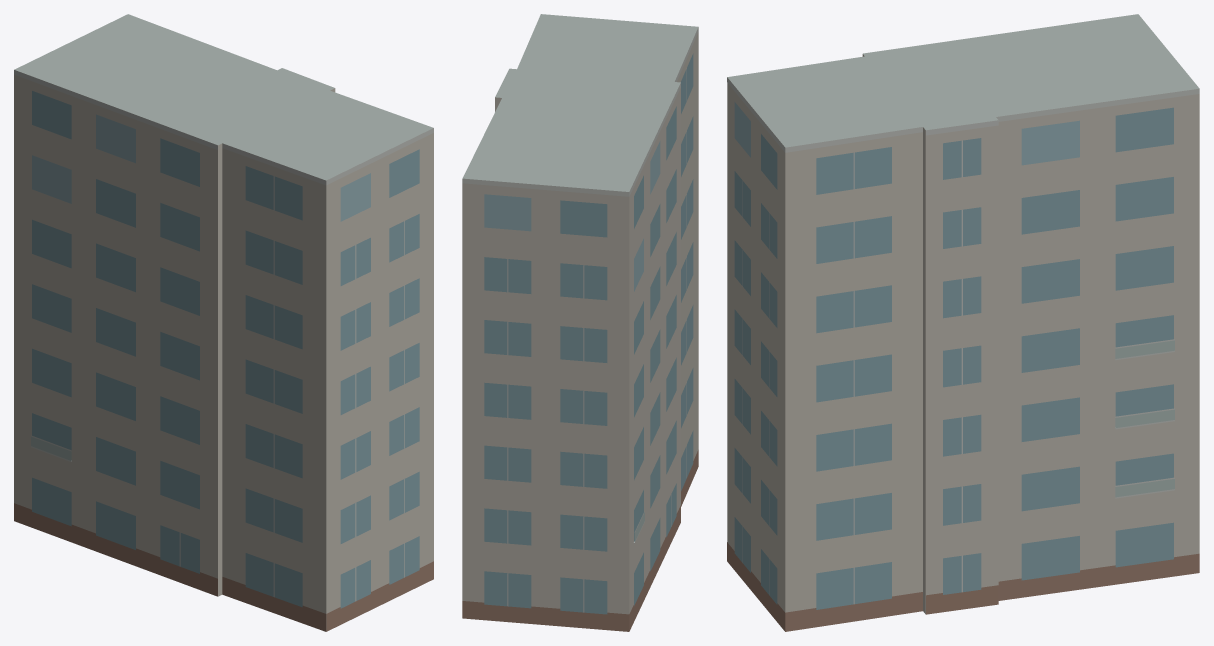
File: survey-upis-32567611.glb
The picture shows the model from 3 angles, left to right: view 1: azimuth 30°, elevation 25°; view 2: azimuth 150°, elevation 25°; view 3: azimuth 270°, elevation 25°; orthographic projection. The views are drawn at different scales.
Parts seen in each view (by area): view 1: survey-upis-32567611.tmp; view 2: survey-upis-32567611.tmp; view 3: survey-upis-32567611.tmp.
Boxes of the visible parts, x1,y1,x2,y2 form: survey-upis-32567611.tmp: (14, 14, 433, 631); survey-upis-32567611.tmp: (462, 14, 698, 631); survey-upis-32567611.tmp: (727, 14, 1199, 631).
Size of the model in its own units: 13.38 by 22.6 by 20.
